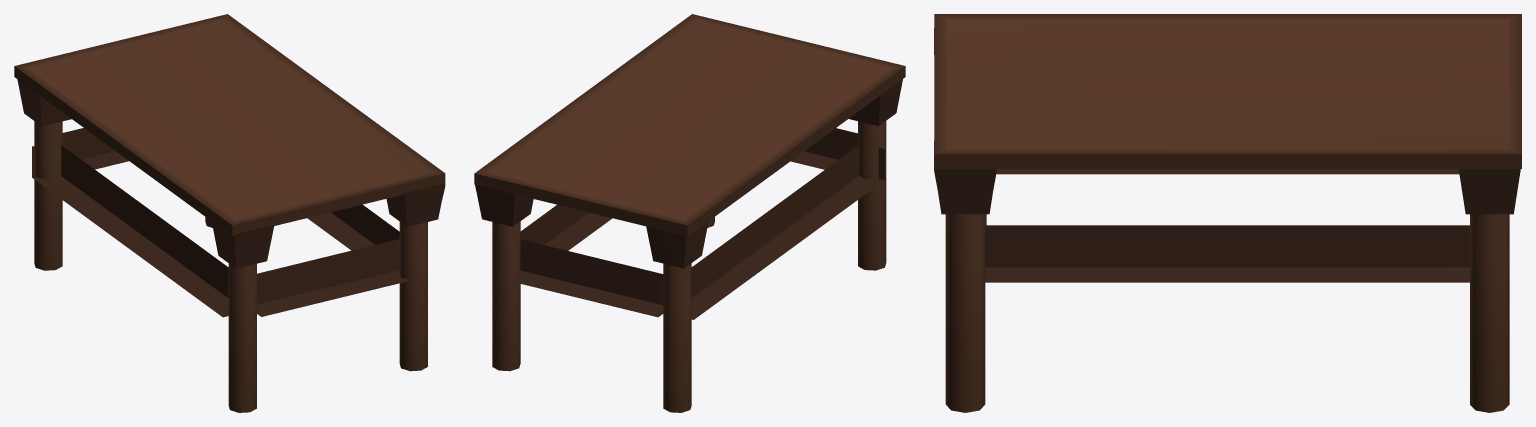
The model's file is SM_SmallerTable.fbx.
3 views of the same model, side by side, from view 1: azimuth 30°, elevation 25°; view 2: azimuth 150°, elevation 25°; view 3: azimuth 270°, elevation 25° (orthographic). The views are drawn at different scales.
Visible parts, largest first — view 1: SM_SmallerTable; view 2: SM_SmallerTable; view 3: SM_SmallerTable.
Boxes of the visible parts, bbox=[...] form: SM_SmallerTable: bbox=[14, 14, 445, 412]; SM_SmallerTable: bbox=[474, 14, 905, 412]; SM_SmallerTable: bbox=[934, 14, 1521, 412].
Bounding box in the file's own units: 56.89 × 49.8 × 101.
